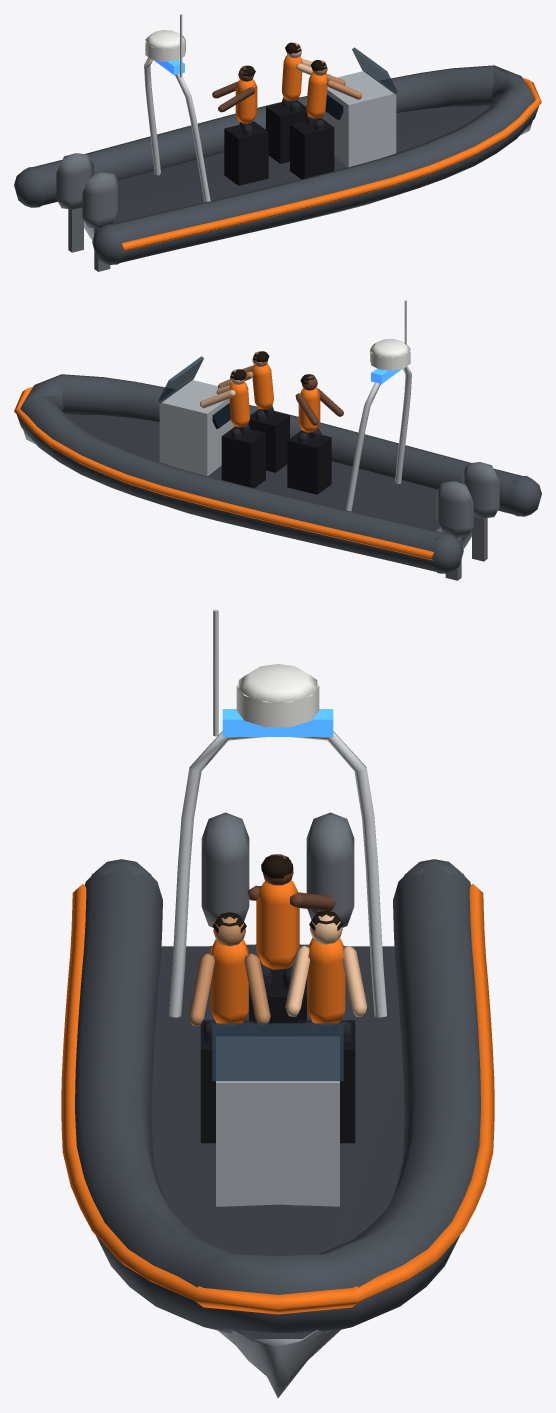
The model's file is patrol-rib.glb.
The picture shows the model from 3 angles, top to bottom: view 1: azimuth 30°, elevation 25°; view 2: azimuth 150°, elevation 25°; view 3: azimuth 270°, elevation 25°; orthographic projection. The views are drawn at different scales.
Parts seen in each view (by area): view 1: Mesh_Collar, Mesh_Deck, Mesh_Console, Mesh_Trim_CollarStripe, Mesh_JockeySeatA, Mesh_JockeySeatS, Mesh_OutboardS, Mesh_AFrame, Mesh_OutboardP, Mesh_JockeySeatP, Mesh_CollarEndP, Mesh_CollarEndS (+9 smaller); view 2: Mesh_Collar, Mesh_Deck, Mesh_Console, Mesh_Trim_CollarStripe, Mesh_JockeySeatA, Mesh_JockeySeatP, Mesh_OutboardP, Mesh_AFrame, Mesh_OutboardS, Mesh_JockeySeatS, Mesh_CollarEndS, Mesh_CollarEndP (+8 smaller); view 3: Mesh_Collar, Mesh_Deck, Mesh_Console, Mesh_Trim_CollarStripe, Mesh_AFrame, Mesh_Windscreen, Mesh_OutboardS, Mesh_OutboardP, Mesh_LookoutBody, Mesh_Hull, Mesh_NavigatorBody, Mesh_HelmBody (+10 smaller).
Part boxes in pixels (box(x1,y1,x2,y2)): Mesh_Collar: box(34, 65, 538, 262); Mesh_Deck: box(115, 105, 491, 221); Mesh_Console: box(321, 71, 396, 167); Mesh_Trim_CollarStripe: box(122, 78, 541, 251); Mesh_JockeySeatA: box(224, 121, 268, 185); Mesh_JockeySeatS: box(290, 118, 334, 179); Mesh_OutboardS: box(82, 172, 119, 228); Mesh_AFrame: box(144, 57, 210, 202); Mesh_OutboardP: box(56, 153, 93, 209); Mesh_JockeySeatP: box(266, 100, 307, 163); Mesh_CollarEndP: box(14, 167, 45, 207); Mesh_CollarEndS: box(92, 224, 123, 264); Mesh_Collar: box(17, 374, 521, 571); Mesh_Deck: box(64, 414, 440, 530); Mesh_Console: box(159, 380, 234, 476); Mesh_Trim_CollarStripe: box(14, 387, 433, 560); Mesh_JockeySeatA: box(287, 430, 331, 494); Mesh_JockeySeatP: box(221, 426, 265, 488); Mesh_OutboardP: box(436, 481, 473, 537); Mesh_AFrame: box(345, 366, 411, 511); Mesh_OutboardS: box(462, 462, 499, 518); Mesh_JockeySeatS: box(248, 409, 289, 472); Mesh_CollarEndS: box(510, 475, 541, 516); Mesh_CollarEndP: box(432, 533, 463, 573); Mesh_Collar: box(75, 863, 480, 1332); Mesh_Deck: box(151, 944, 404, 1341); Mesh_Console: box(216, 1037, 339, 1206); Mesh_Trim_CollarStripe: box(61, 884, 494, 1314); Mesh_AFrame: box(169, 731, 386, 1017); Mesh_Windscreen: box(212, 1023, 343, 1081); Mesh_OutboardS: box(201, 812, 249, 927); Mesh_OutboardP: box(306, 812, 354, 927); Mesh_LookoutBody: box(256, 880, 299, 969); Mesh_Hull: box(218, 1329, 340, 1397); Mesh_NavigatorBody: box(307, 937, 345, 1025); Mesh_HelmBody: box(210, 939, 248, 1025).
Bounding box in the file's own units: 8.05 × 3.85 × 3.14.
